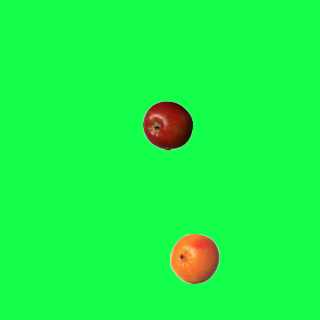Apple Braeburn: (142, 100, 192, 150)
Grapefruit Pink: (169, 233, 219, 283)
